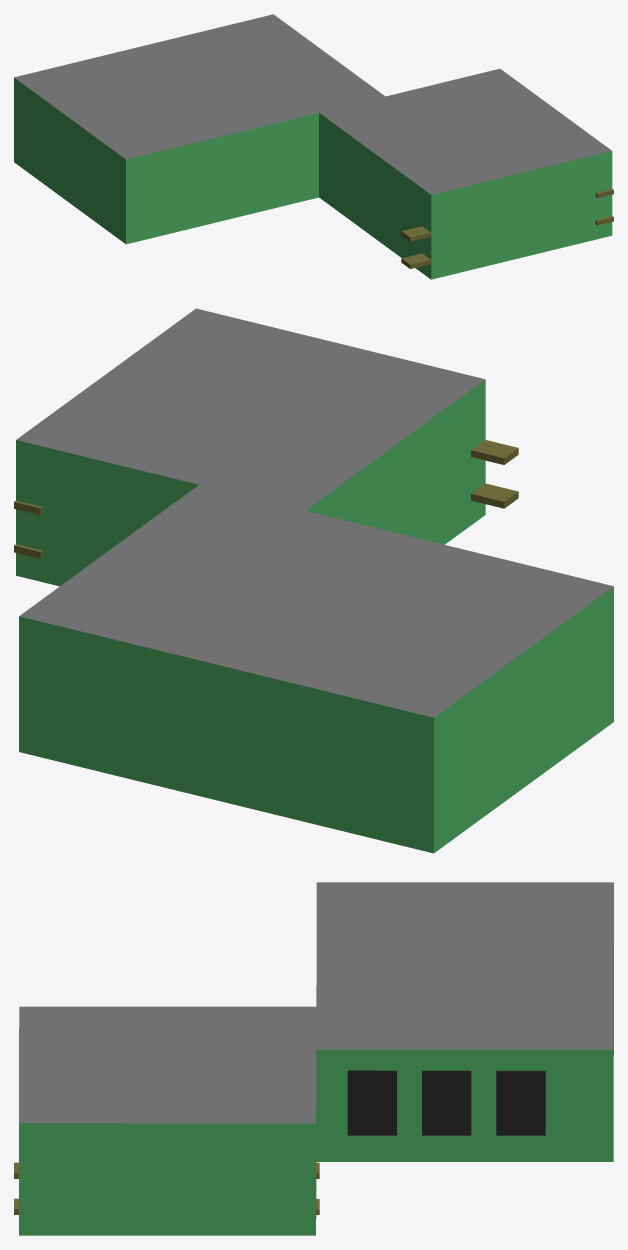
File: creativeRoom.gltf
3 views of the same model, one above another, from view 1: azimuth 30°, elevation 25°; view 2: azimuth 150°, elevation 25°; view 3: azimuth 270°, elevation 25° (orthographic). The views are drawn at different scales.
Visible parts, largest first — view 1: Main Room; view 2: Main Room; view 3: Main Room.
Boxes of the visible parts, x1,y1,x2,y2 form: Main Room: (14,14,613,279); Main Room: (14,308,613,853); Main Room: (14,882,613,1235).
Bounding box in the file's own units: 23.06 × 5.04 × 24.22.
